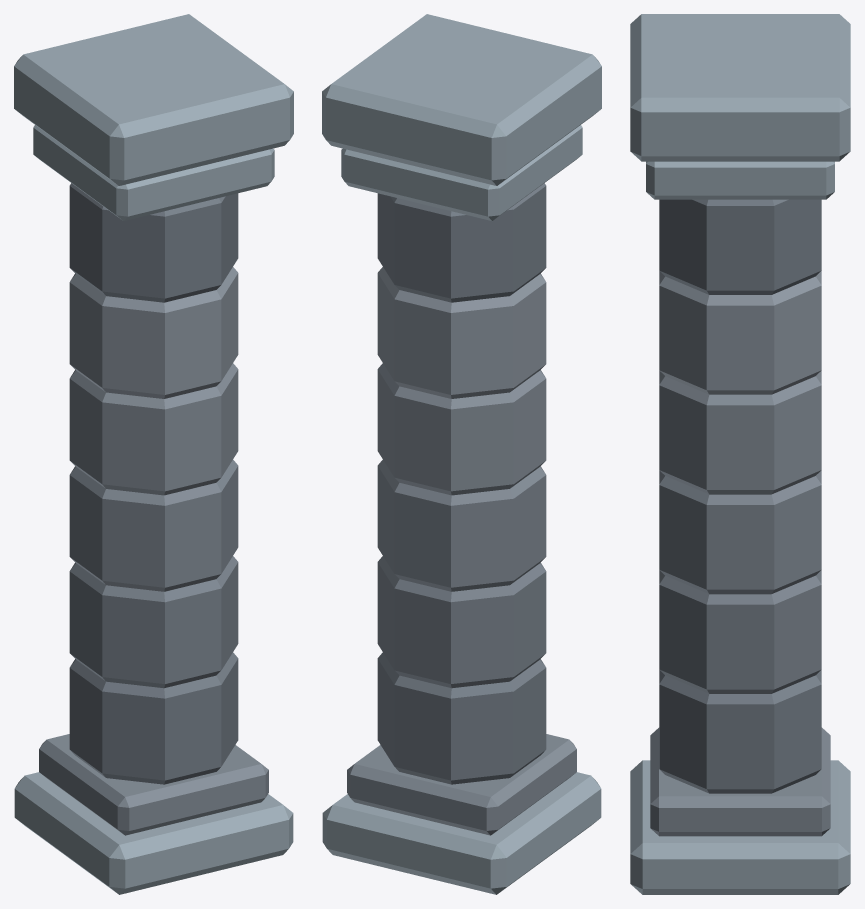
The model's file is MOD_15_Pillar_Stone.glb.
3 views of the same model, side by side, from view 1: azimuth 30°, elevation 25°; view 2: azimuth 150°, elevation 25°; view 3: azimuth 270°, elevation 25° (orthographic). The views are drawn at different scales.
Parts seen in each view (by area): view 1: MOD_15_Pillar_Stone; view 2: MOD_15_Pillar_Stone; view 3: MOD_15_Pillar_Stone.
Part boxes in pixels (box(x1,y1,x2,y2)): MOD_15_Pillar_Stone: box(14, 14, 293, 894); MOD_15_Pillar_Stone: box(322, 14, 601, 894); MOD_15_Pillar_Stone: box(630, 14, 850, 894).
Bounding box in the file's own units: 1 × 4 × 1.
